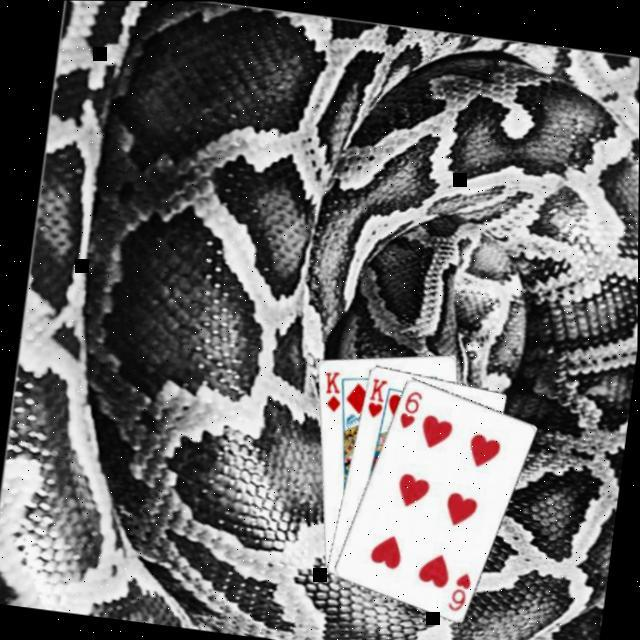6H: (396, 383, 427, 430), (445, 566, 476, 613)
KD: (318, 364, 348, 414)
KH: (364, 372, 391, 419)
